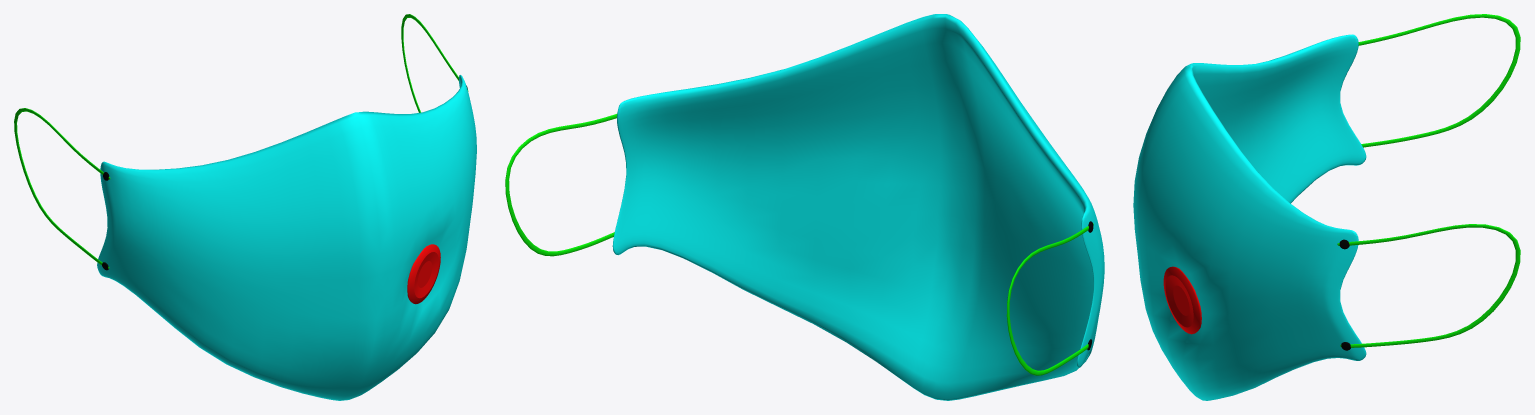
3 views of the same model, side by side, from view 1: azimuth 30°, elevation 25°; view 2: azimuth 150°, elevation 25°; view 3: azimuth 270°, elevation 25° (orthographic). The views are drawn at different scales.
Visible parts, largest first — view 1: Mask, Leam, Filter; view 2: Mask, Leam; view 3: Mask, Leam, Filter.
Part boxes in pixels (left/top/right/bottom): Mask: left=97, top=75, right=476, bottom=400; Leam: left=14, top=14, right=468, bottom=268; Filter: left=407, top=244, right=440, bottom=304; Mask: left=612, top=14, right=1104, bottom=400; Leam: left=505, top=114, right=1093, bottom=375; Mask: left=1133, top=34, right=1366, bottom=400; Leam: left=1337, top=14, right=1520, bottom=347; Filter: left=1163, top=266, right=1201, bottom=334.
Size of the model in its own units: 2 by 1.44 by 1.53.
